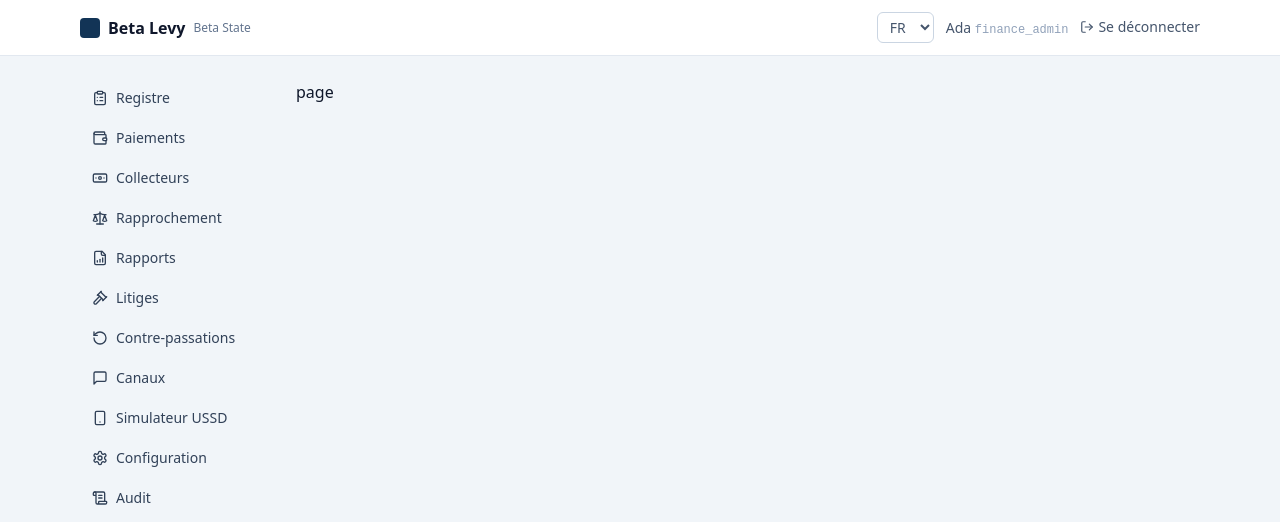
Scenario: tenant-aware shell › re-themes and re-labels from the beta fixture with no code change
Check: the text "Beta Levy" is shown, box [108,16,185,40]
Check: the text with test id "tenant-name" reads "Beta State", box [193,18,251,36]
The language switch re-labels the shell without reloading.
Step 1. Select "EN" in the dropdown named "Langue" → (905, 28), box [877,12,934,43]
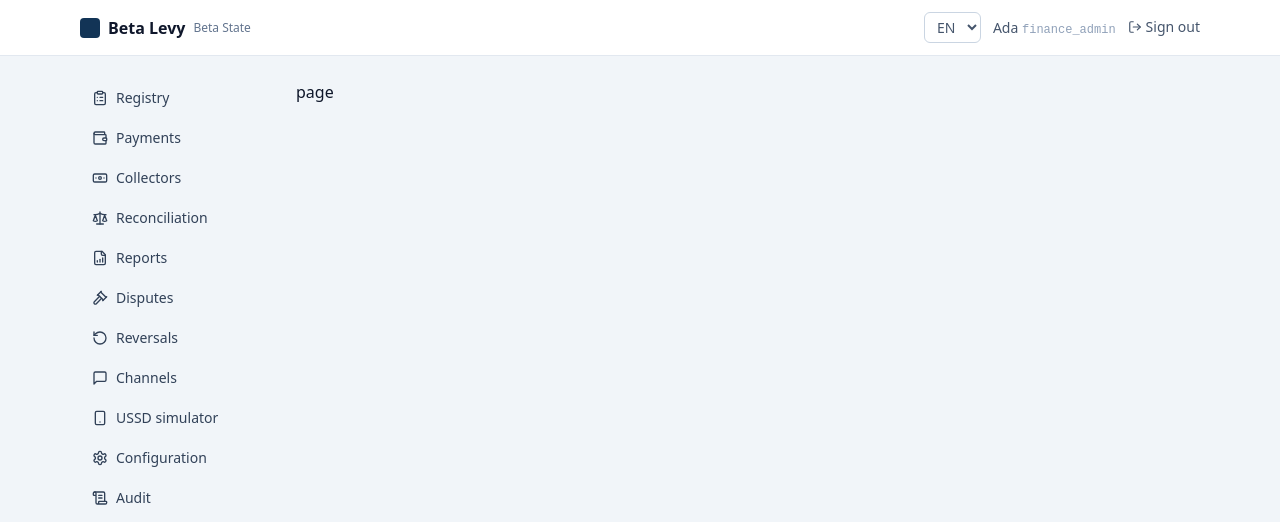
Check: the button "Registry" is shown, box [80,80,272,116]
Check: the button "Reconciliation" is shown, box [80,200,272,236]
